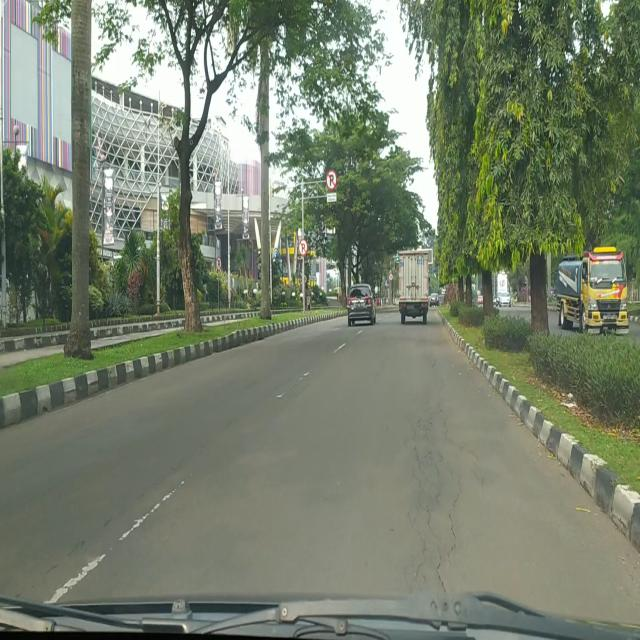Drain Hole: (407, 405, 477, 596)
